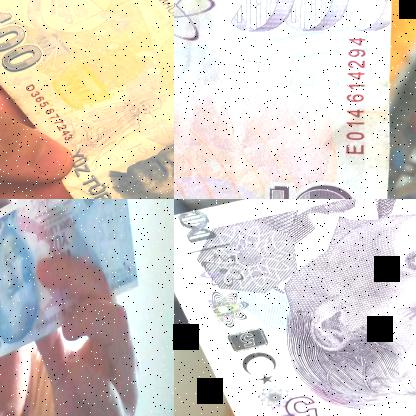5 TL: (0, 0, 173, 198)
